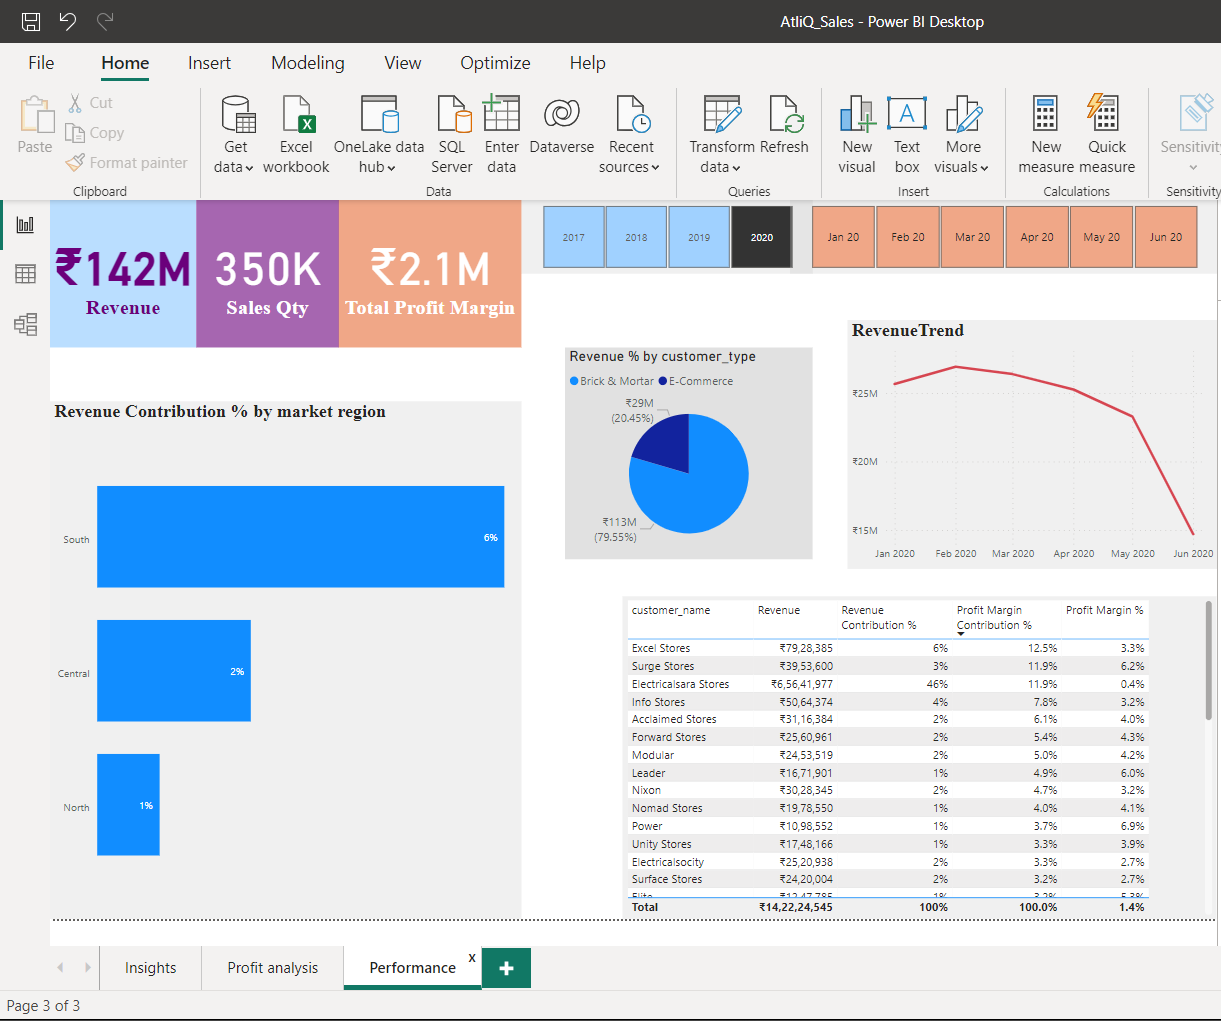

The dashboard page shown, as its layout file describes it:
{"tool":"powerbi","page":{"name":"  Performance","canvas":[1380,850],"ordinal":2},"visuals":[{"type":"card","fields":{"Values":["BaseMeasures.Revenue"]},"box":[0,0,173.1,174.6],"z":0},{"type":"card","fields":{"Values":["BaseMeasures.Sales Qty"]},"box":[173.1,0,168.7,174.6],"z":1000},{"type":"barChart","title":"Revenue Contribution % by market region","fields":{"Category":["markets.markets_name","markets.zone"],"Y":["BaseMeasures.Profit Margin %"]},"box":[0,238.2,557.7,612.5],"z":2000},{"type":"slicer","title":"Revenue % by customer type","fields":{"Values":["Date.year"]},"box":[557.7,0,344.7,87.3],"z":3000},{"type":"slicer","fields":{"Values":["Date.cy_date"]},"box":[874.3,0,506,87.3],"z":4000},{"type":"tableEx","title":" Top 5 Customers","fields":{"Values":["customer.customer_name","BaseMeasures.Revenue","BaseMeasures.Revenue Contribution %","BaseMeasures.Profit Margin Contribution %","BaseMeasures.Profit Margin %"]},"box":[677.6,469,702.7,381.7],"z":5000},{"type":"lineChart","title":"RevenueTrend","fields":{"Y":["BaseMeasures.Revenue"],"Category":["Date.cy_date.Variation.Date Hierarchy.Year","Date.cy_date.Variation.Date Hierarchy.Quarter","Date.cy_date.Variation.Date Hierarchy.Month","Date.cy_date.Variation.Date Hierarchy.Day"]},"box":[942.4,142,437.9,294.4],"z":7000},{"type":"card","fields":{"Values":["BaseMeasures.Total Profit Margin"]},"box":[341.7,0,216,174.6],"z":9000},{"type":"pieChart","title":"Revenue % by customer_type","fields":{"Y":["BaseMeasures.Revenue"],"Category":["customer.customer_type"]},"box":[609.5,174.6,292.9,250],"z":9001}]}

Visuals, with their boxes on the page's 1380x850 design canvas (x1, y1, x2, y2). These are canvas units, not pixel positions in the 1221x1021 screenshot, which may show the page scaled, cropped or inside an application window:
card - BaseMeasures.Revenue: 0 0 173 175
card - BaseMeasures.Sales Qty: 173 0 342 175
"Revenue Contribution % by market region" barChart: 0 238 558 851
"Revenue % by customer type" slicer: 558 0 902 87
slicer - Date.cy_date: 874 0 1380 87
" Top 5 Customers" tableEx: 678 469 1380 851
"RevenueTrend" lineChart: 942 142 1380 436
card - BaseMeasures.Total Profit Margin: 342 0 558 175
"Revenue % by customer_type" pieChart: 610 175 902 425
